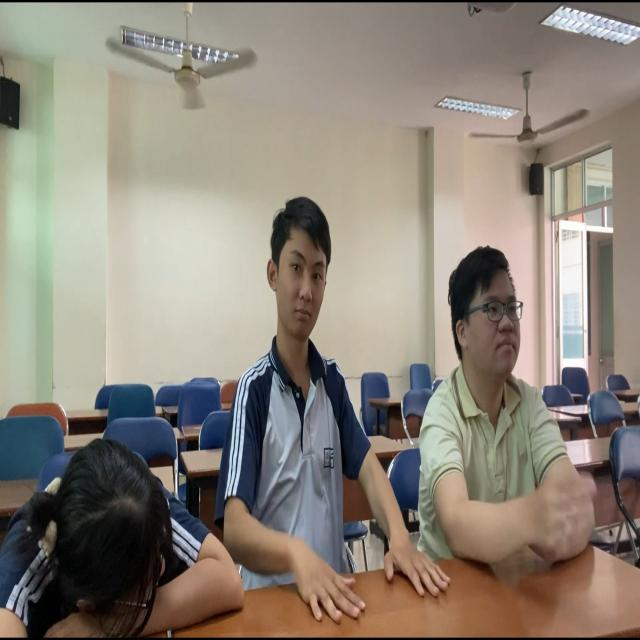sleep: (1, 428, 269, 640)
